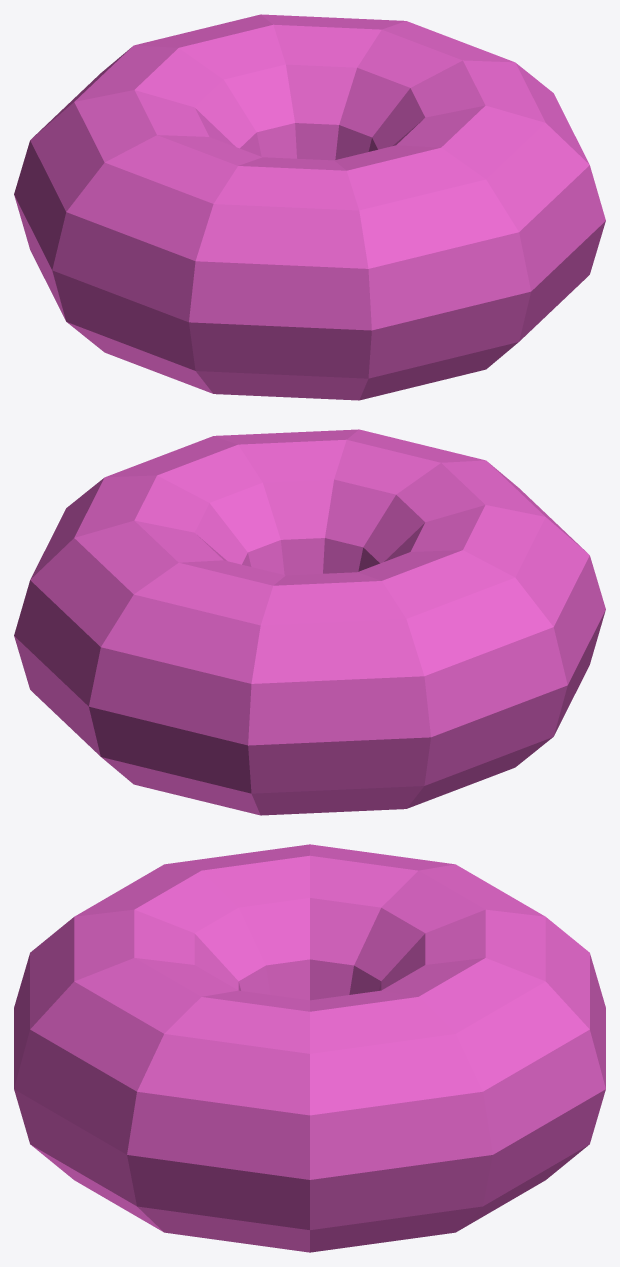
File: Good_Donut_V0.glb
The picture shows the model from 3 angles, top to bottom: view 1: azimuth 30°, elevation 25°; view 2: azimuth 150°, elevation 25°; view 3: azimuth 270°, elevation 25°; orthographic projection. The views are drawn at different scales.
Visible parts, largest first — view 1: Good-Donut-col; view 2: Good-Donut-col; view 3: Good-Donut-col.
Boxes of the visible parts, x1,y1,x2,y2 form: Good-Donut-col: (14,14,605,400); Good-Donut-col: (14,429,605,815); Good-Donut-col: (14,844,605,1252).
Bounding box in the file's own units: 0.59 × 0.24 × 0.5611.
